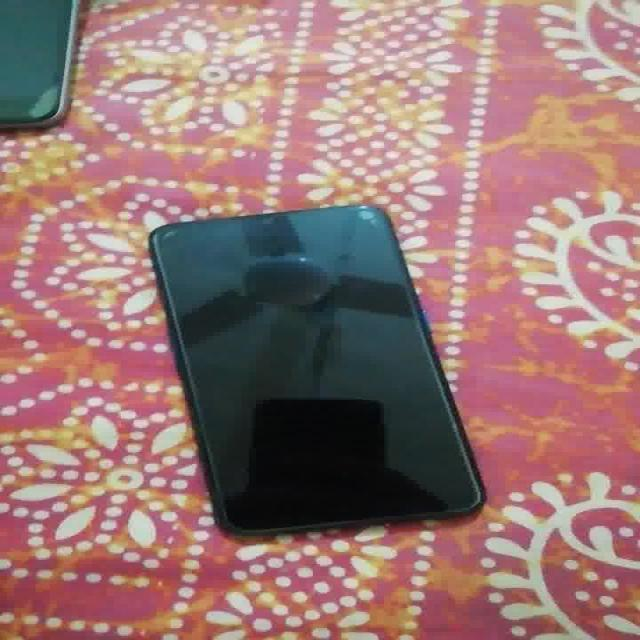phone: (146, 201, 484, 529), (3, 1, 101, 122)
